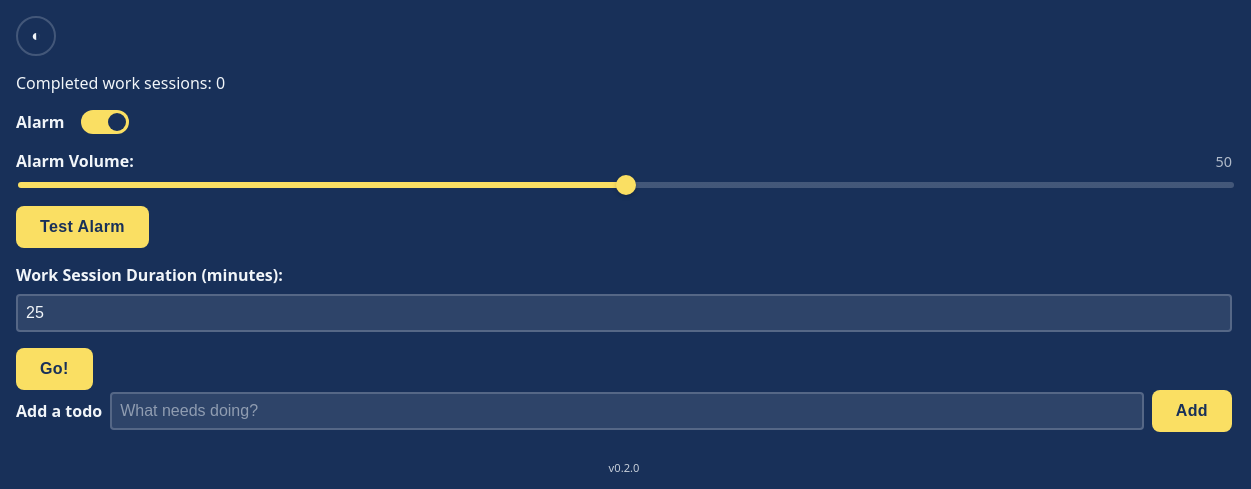
App › cancels a running timer and returns to the config screen
Type "1" into the number field labelled "Work Session Duration (minutes):" at [624, 313], box left=16, top=294, right=1232, bottom=332
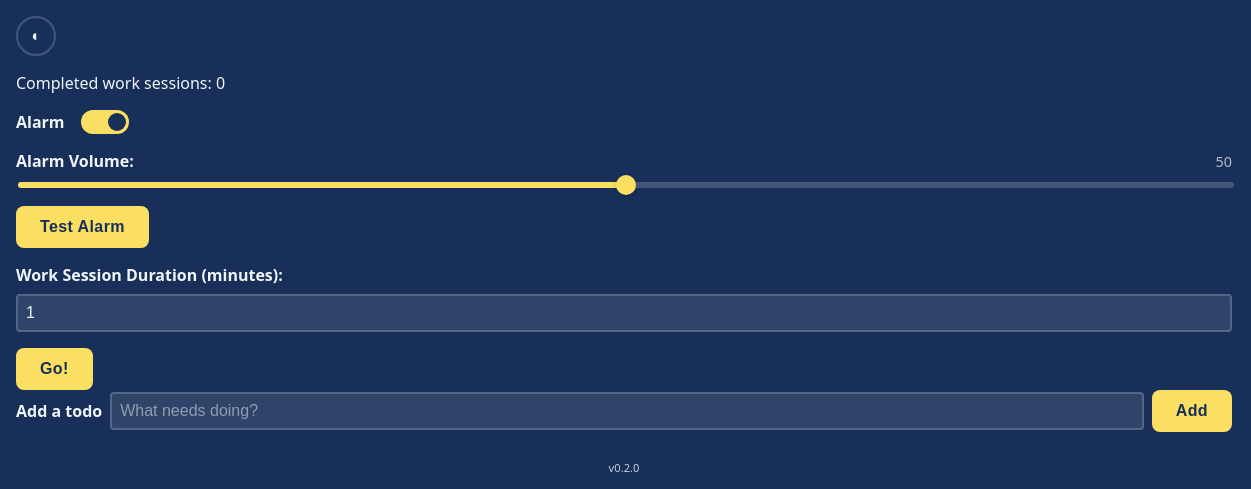
Click the button "Go!" at [54, 369], box left=16, top=348, right=93, bottom=390
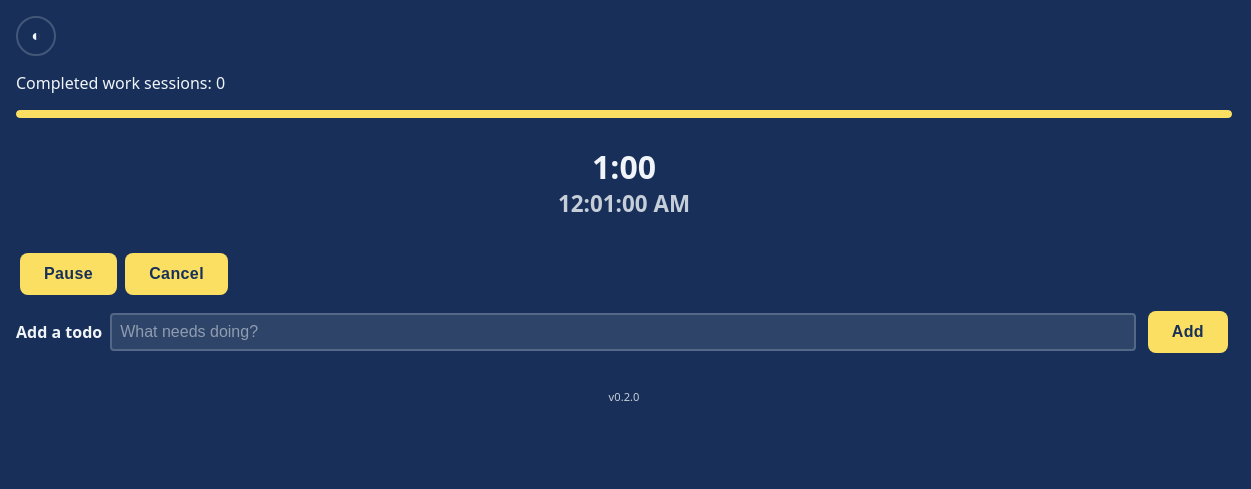
Click the button "Cancel" at [177, 274], box left=125, top=253, right=228, bottom=295
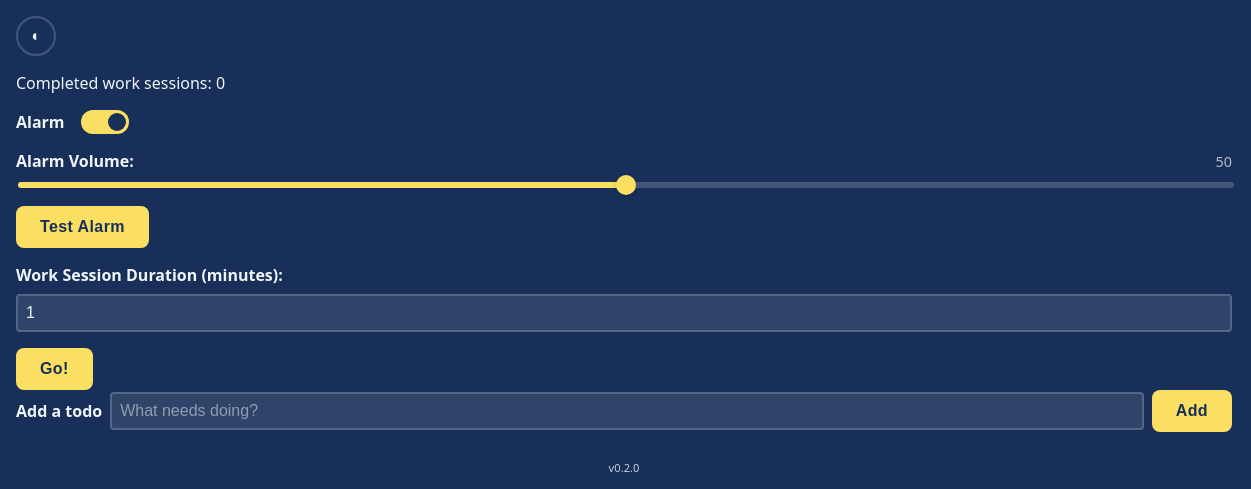
Check: the button "Go!" is shown, box left=16, top=348, right=93, bottom=390
